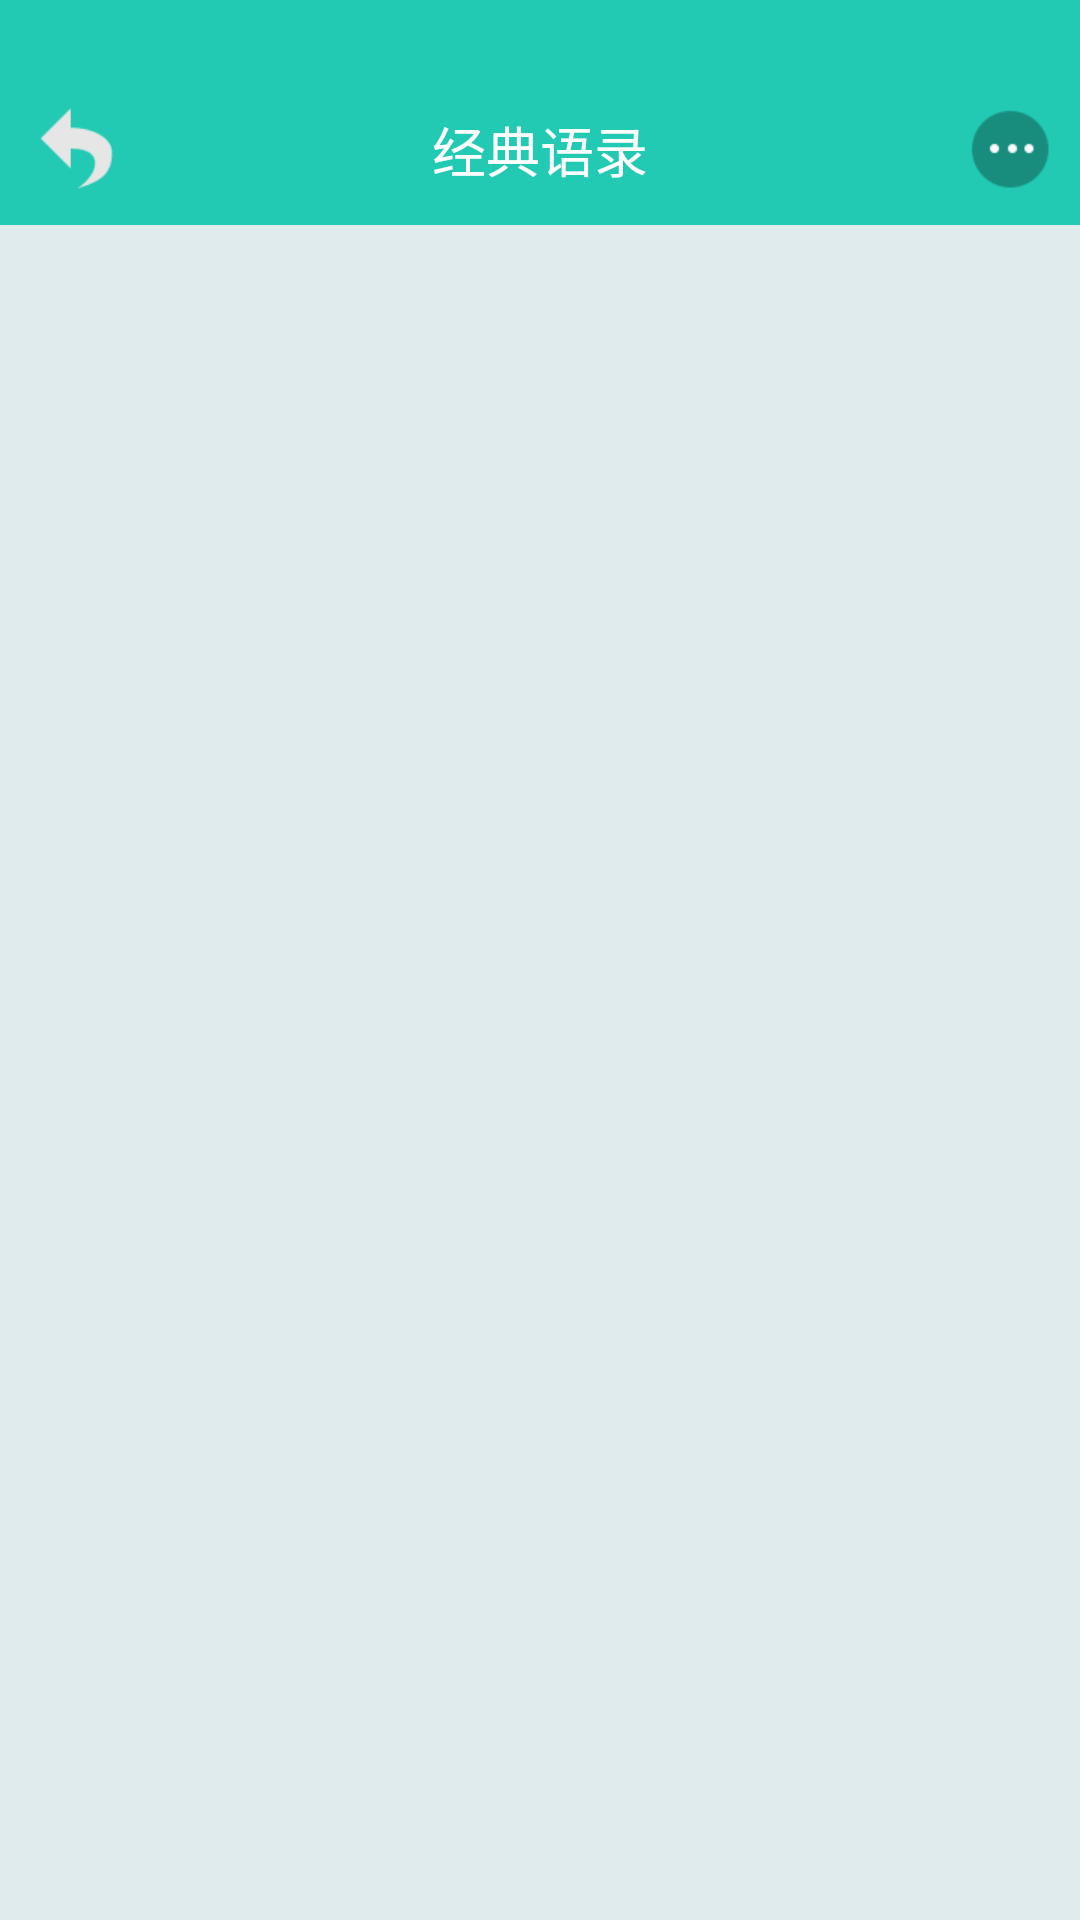

Locate icon controls on the screen. Image size 1080 × 1920, boxes as (x1, y1, x2, y2).
more: (972, 111, 1049, 188)
